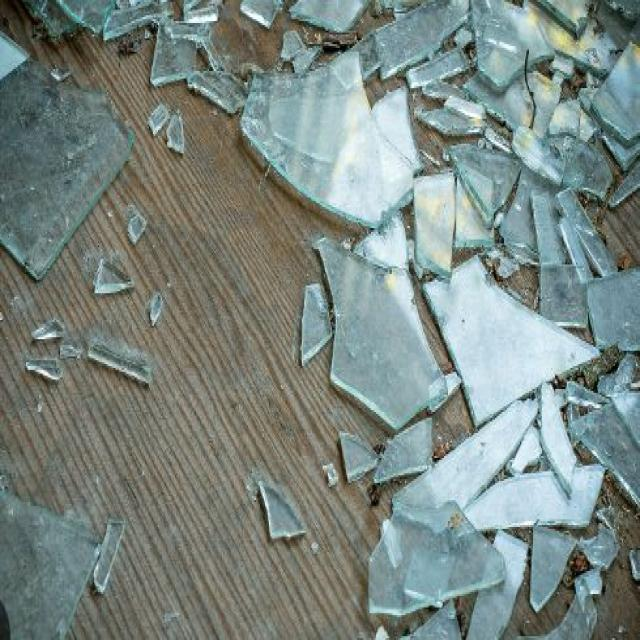electronic: (234, 48, 430, 237)
